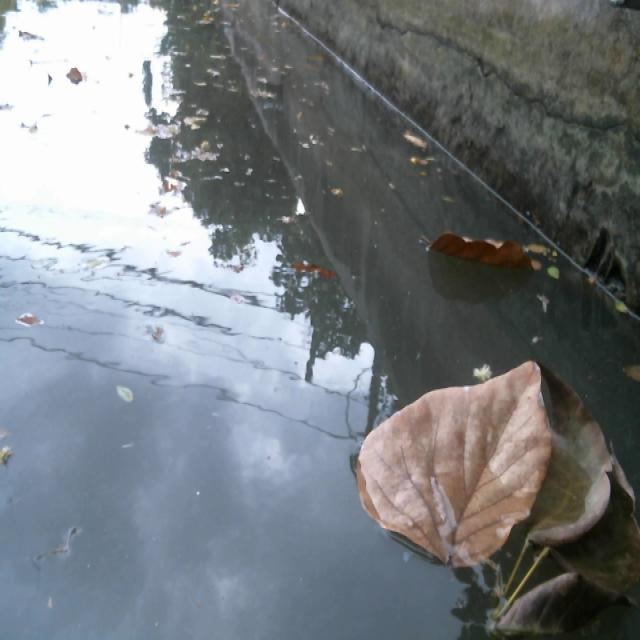Big-leaf: (335, 367, 640, 640), (422, 226, 552, 291)
Small-leaf: (278, 244, 348, 291), (0, 424, 32, 484), (8, 307, 48, 342), (112, 375, 141, 411), (605, 296, 636, 322), (542, 265, 570, 292), (410, 125, 438, 151)
